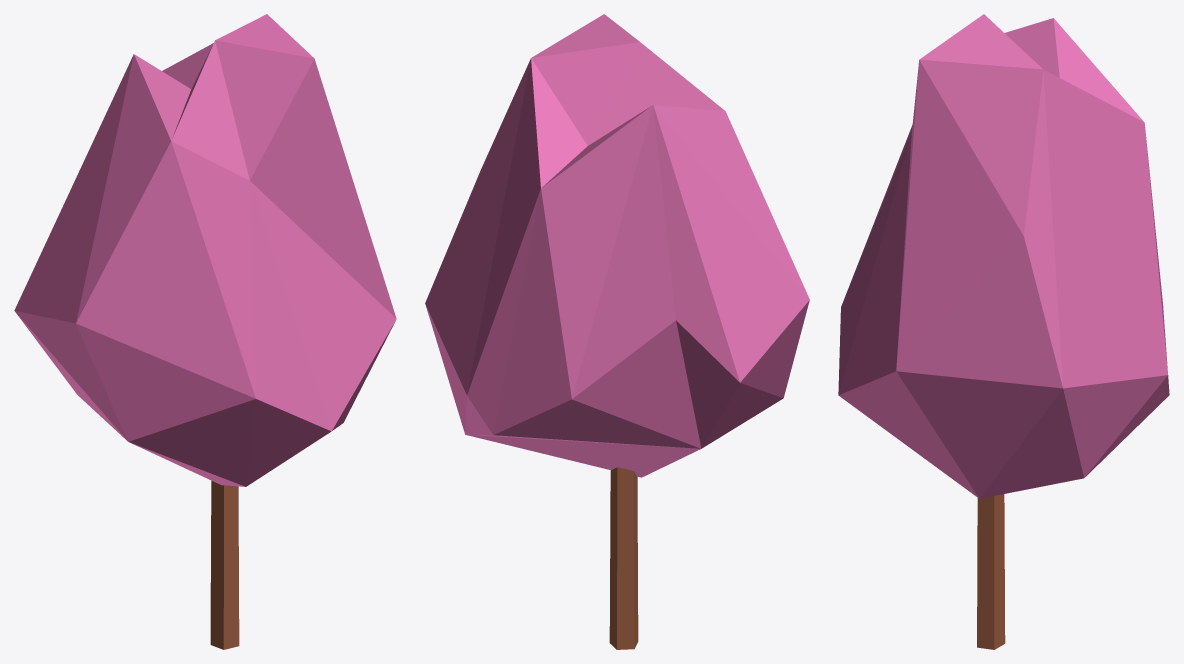
File: Tulip_C.fbx
3 views of the same model, side by side, from view 1: azimuth 30°, elevation 25°; view 2: azimuth 150°, elevation 25°; view 3: azimuth 270°, elevation 25° (orthographic). The views are drawn at different scales.
Visible parts, largest first — view 1: Tulip_C_geo; view 2: Tulip_C_geo; view 3: Tulip_C_geo.
Boxes of the visible parts, box(x1,y1,x2,y2) form: Tulip_C_geo: box(14, 14, 396, 649); Tulip_C_geo: box(425, 14, 809, 649); Tulip_C_geo: box(838, 14, 1169, 649).
Bounding box in the file's own units: 25.21 × 43.98 × 21.19.
